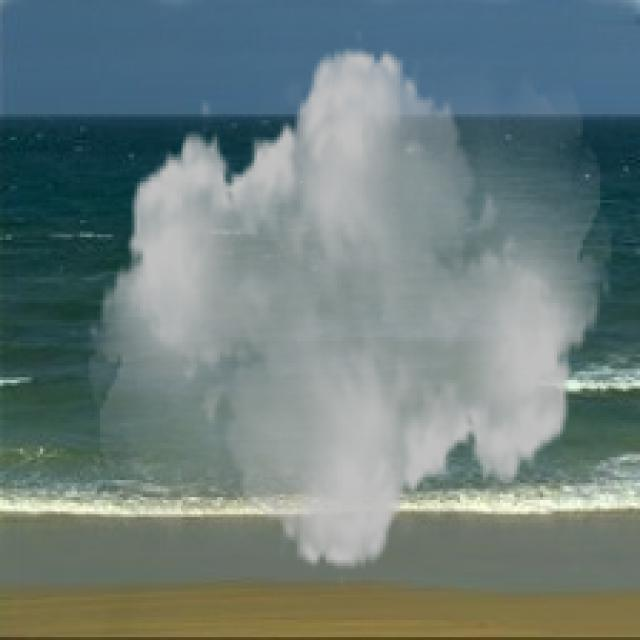smoke: (89, 26, 612, 591)
